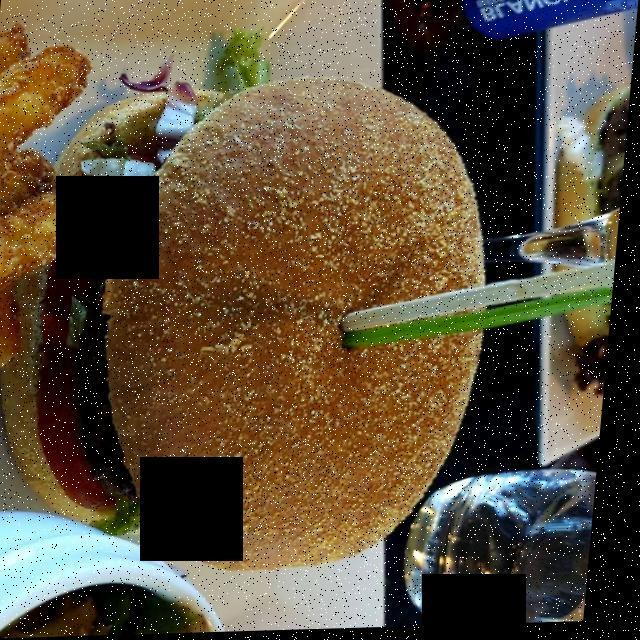hamburger: (0, 66, 483, 571)
salad: (76, 15, 267, 541)
tomato: (45, 212, 135, 521)
